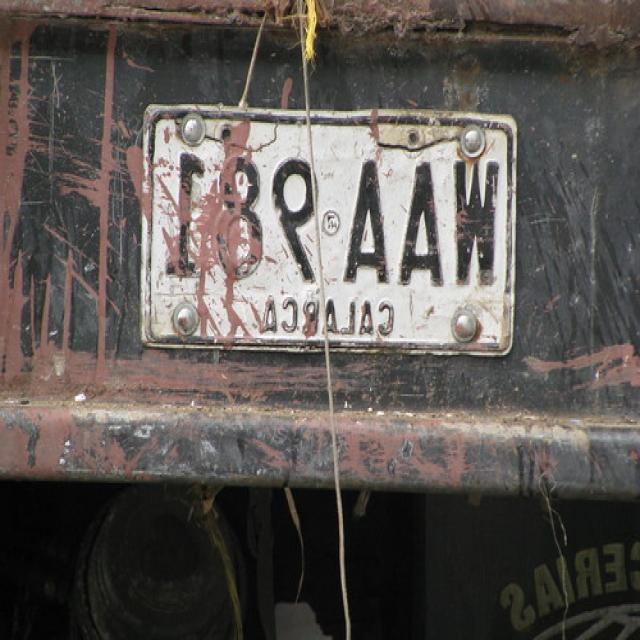placas: (160, 143, 513, 302)
